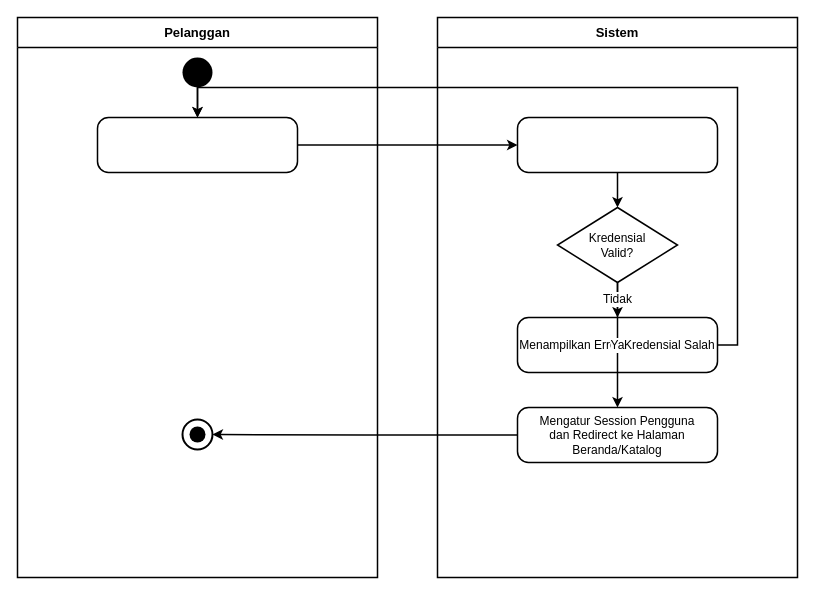
Image size: 816x596. Some labels were removed from this diagram. The centre of each missing label's shape, as x and y in pixels:
"Memvalidasi Kredensial Pelanggan" goes at (617,144).
"Mengisi Email & Password pada Form Login" goes at (197,144).
